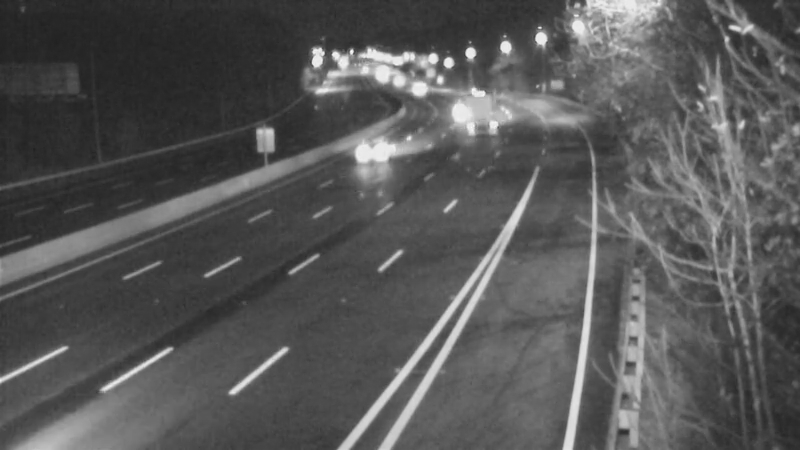vehicle: (368, 57, 418, 107), (392, 65, 442, 115), (459, 86, 509, 136), (436, 84, 486, 134), (358, 122, 408, 172)
